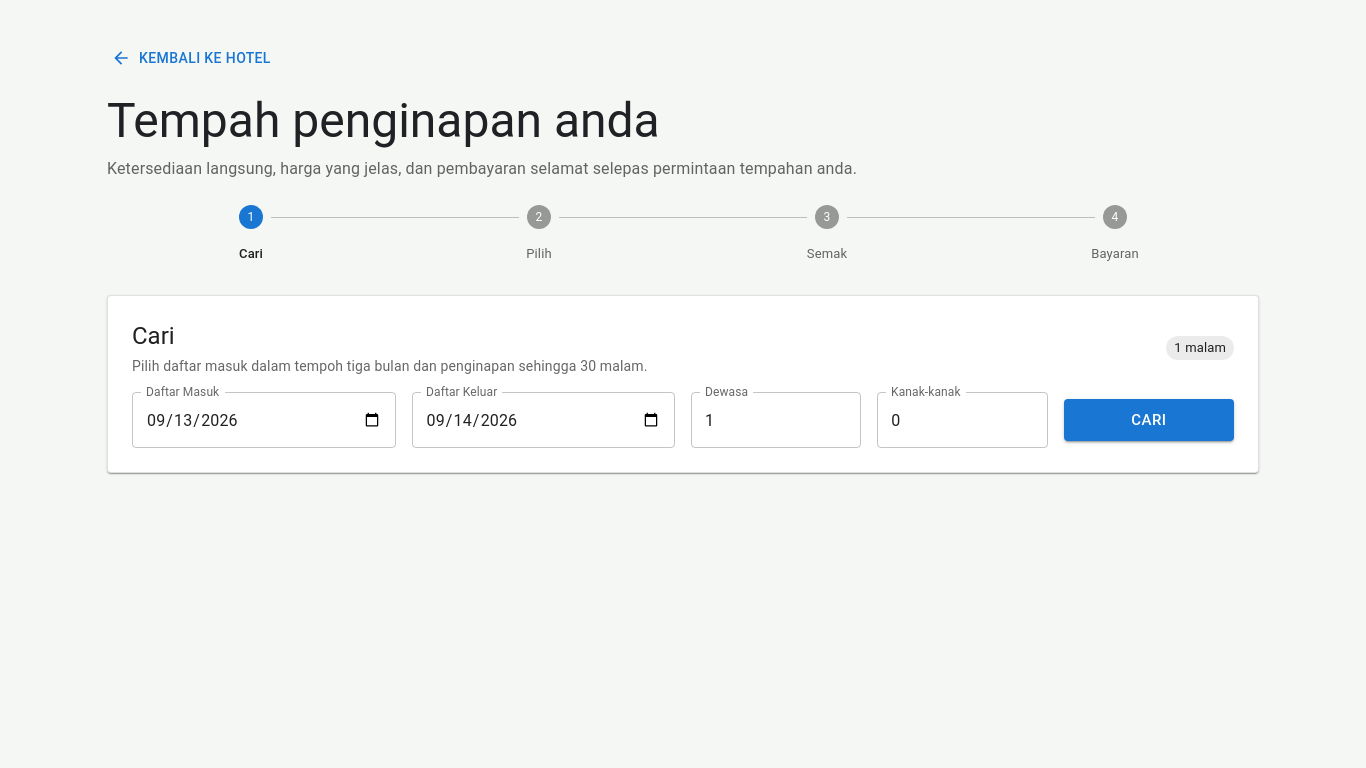
Test case: PortalBookingPage anonymous checkout › renders search and review labels in Bahasa Melayu when that is the active language
Expected: the heading "Cari" is shown, [132,322,175,350]
Expected: the date field labelled "Daftar Masuk" is shown, [132,392,396,448]
Click the button "Cari".
click(1149, 420)  # box [1064,399,1234,441]
(page scrolled)
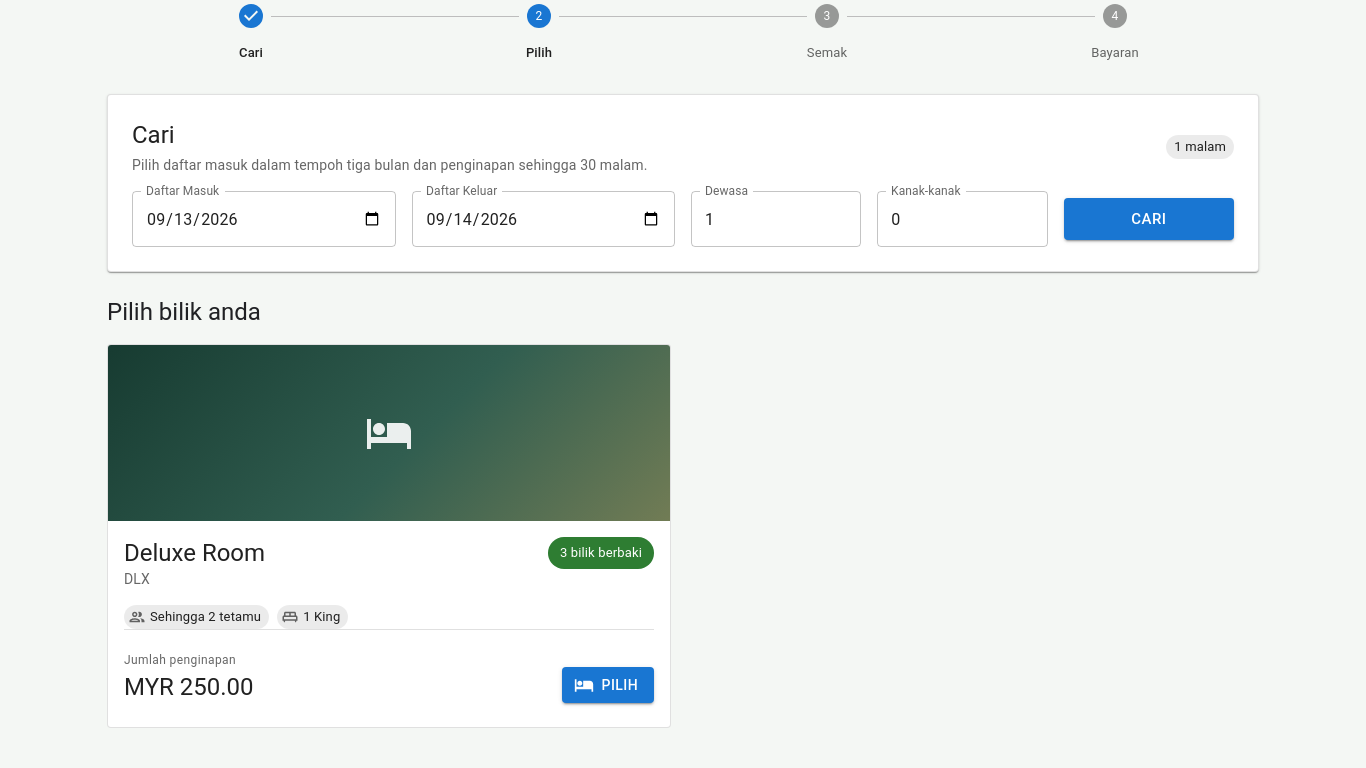
Click the button "Pilih".
click(608, 685)  # box [562,667,654,703]
(page scrolled)
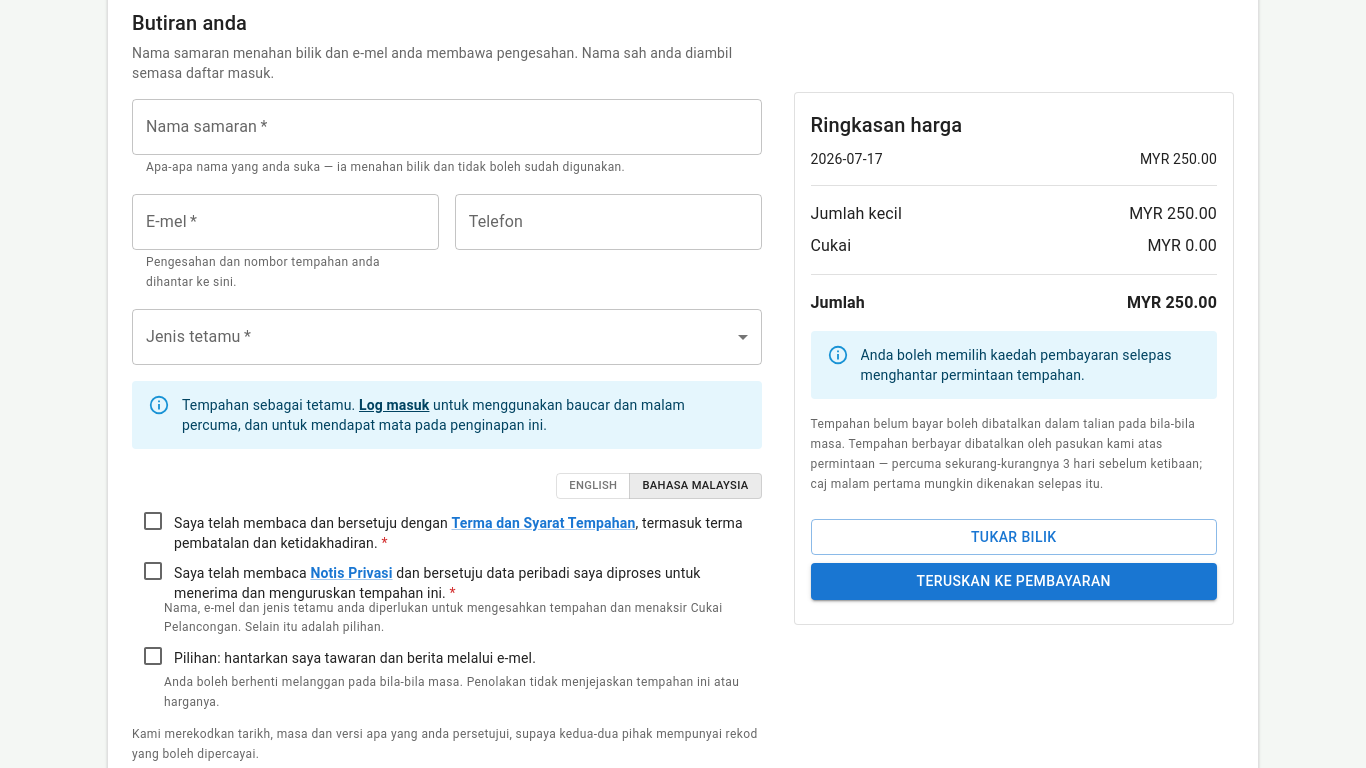
Now the heading "Butiran anda" is shown, box [132,11,247,35]
Now the button "Teruskan ke pembayaran" is shown, box [810,563,1217,600]
